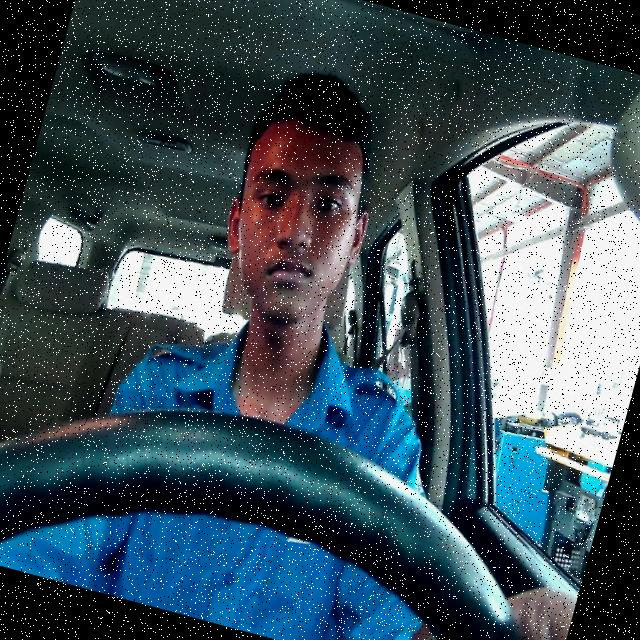focused: (204, 113, 388, 337)
